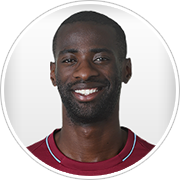face: (45, 41, 134, 115)
